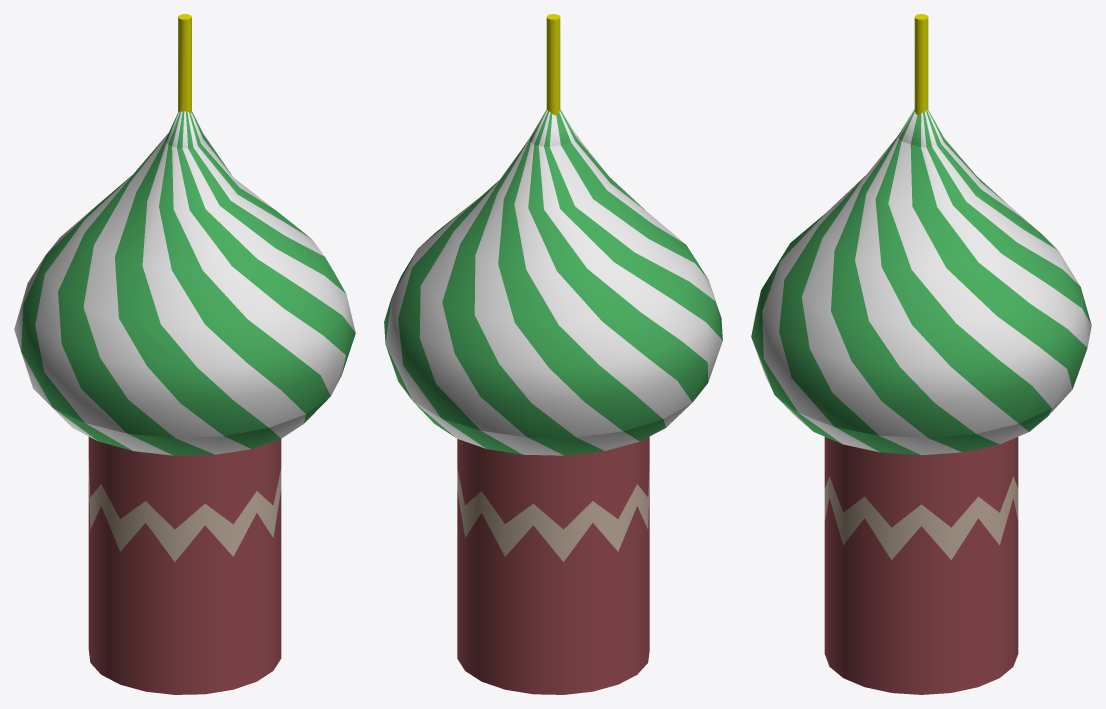
The model's file is russie_tour2.fbx.
The picture shows the model from 3 angles, left to right: view 1: azimuth 30°, elevation 25°; view 2: azimuth 150°, elevation 25°; view 3: azimuth 270°, elevation 25°; orthographic projection.
Parts seen in each view (by area): view 1: pasted__pCylinder4; view 2: pasted__pCylinder4; view 3: pasted__pCylinder4.
Boxes of the visible parts, x1,y1,x2,y2 form: pasted__pCylinder4: (14,14,355,694); pasted__pCylinder4: (384,14,722,694); pasted__pCylinder4: (751,14,1091,694).
Bounding box in the file's own units: 2.54 × 5.25 × 2.54.
